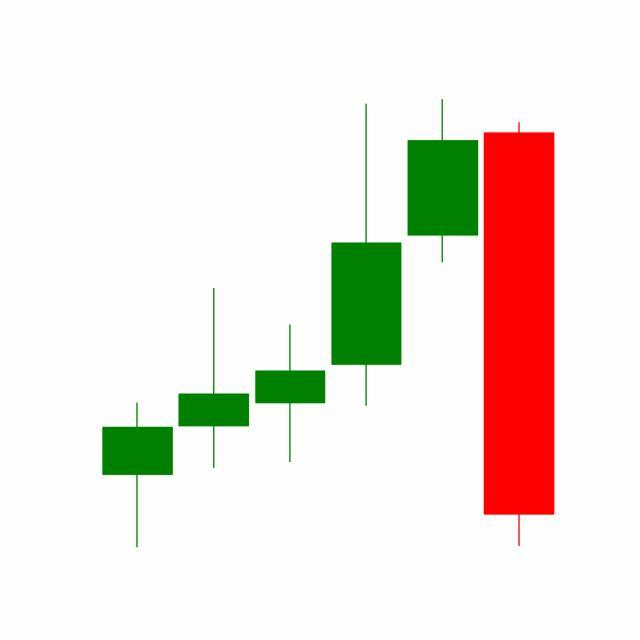Evening Star: (326, 99, 555, 549)
